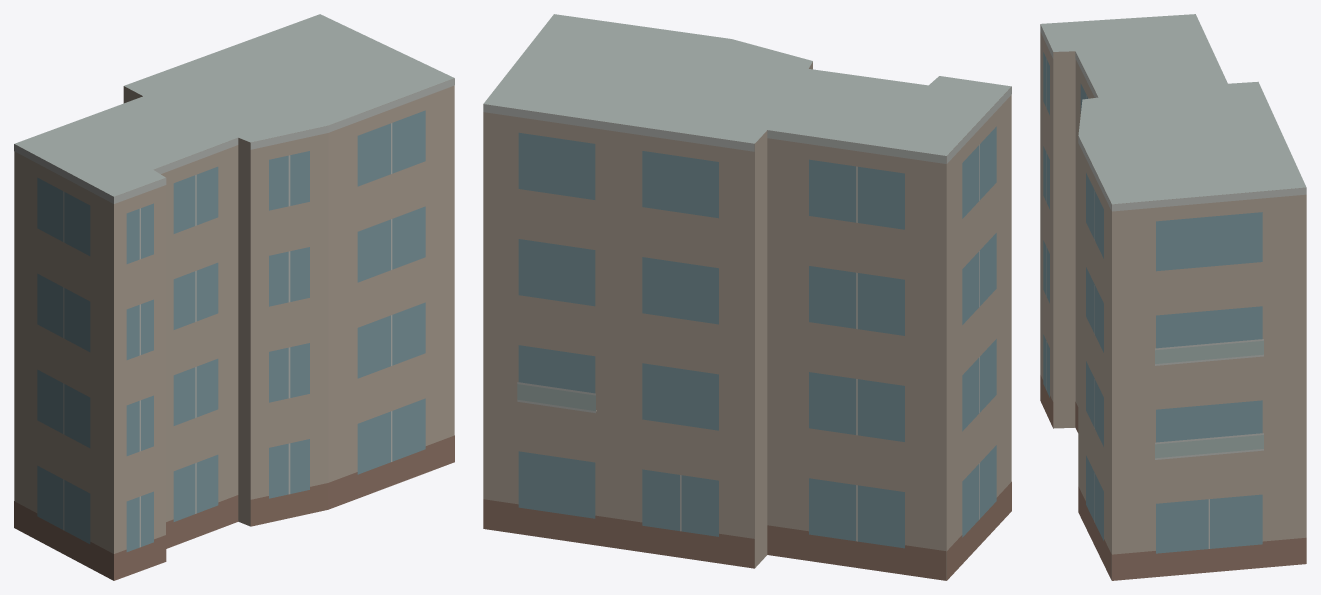
Rendered from survey-upis-32458358.glb.
The picture shows the model from 3 angles, left to right: view 1: azimuth 30°, elevation 25°; view 2: azimuth 150°, elevation 25°; view 3: azimuth 270°, elevation 25°; orthographic projection. The views are drawn at different scales.
Parts seen in each view (by area): view 1: survey-upis-32458358.tmp; view 2: survey-upis-32458358.tmp; view 3: survey-upis-32458358.tmp.
Boxes of the visible parts, x1,y1,x2,y2 form: survey-upis-32458358.tmp: (14, 14, 454, 580); survey-upis-32458358.tmp: (483, 14, 1011, 580); survey-upis-32458358.tmp: (1040, 14, 1306, 580).
Bounding box in the file's own units: 13.89 × 12.8 × 8.21.
